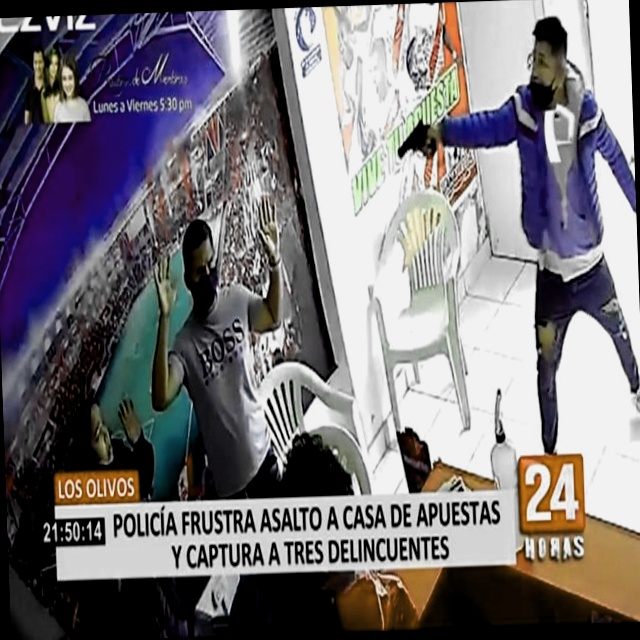gun: (380, 100, 446, 185)
